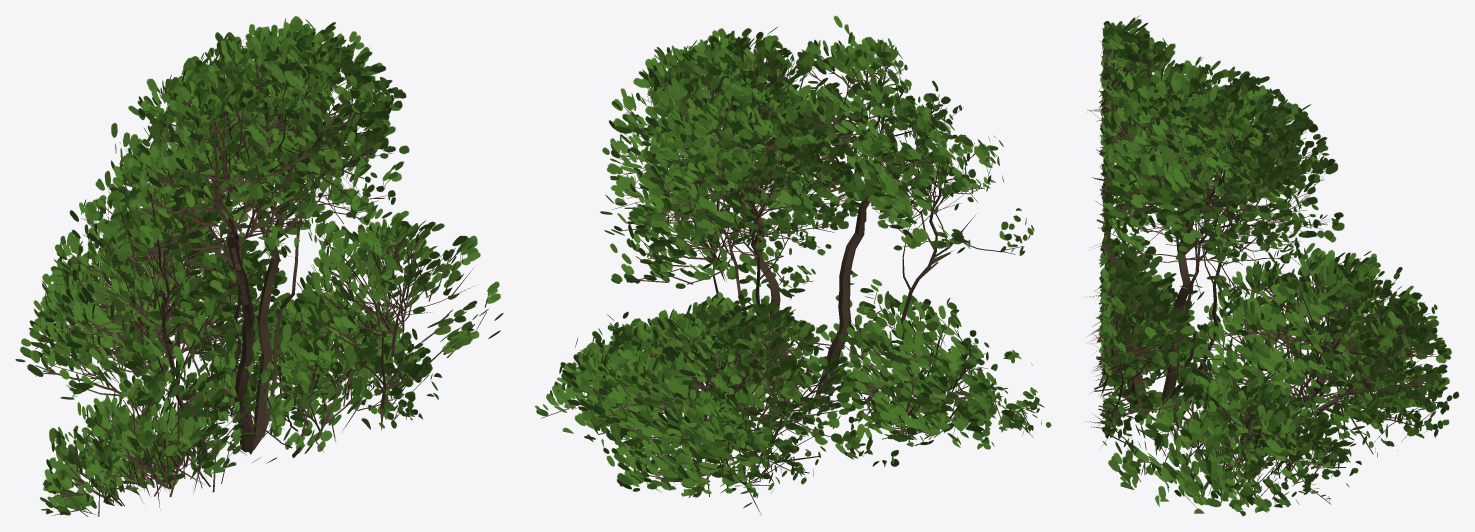
3 views of the same model, side by side, from view 1: azimuth 30°, elevation 25°; view 2: azimuth 150°, elevation 25°; view 3: azimuth 270°, elevation 25° (orthographic). The views are drawn at different scales.
Visible parts, largest first — view 1: oak 01.001_trunk_Mat.001_0.171; view 2: oak 01.001_trunk_Mat.001_0.171; view 3: oak 01.001_trunk_Mat.001_0.171.
Part boxes in pixels (left/top/right/bottom): oak 01.001_trunk_Mat.001_0.171: left=15, top=16, right=503, bottom=516; oak 01.001_trunk_Mat.001_0.171: left=535, top=16, right=1051, bottom=515; oak 01.001_trunk_Mat.001_0.171: left=1083, top=15, right=1459, bottom=516.
Size of the model in its own units: 5.86 by 4.98 by 4.27.
Materials: 2 (1 with a texture image).
